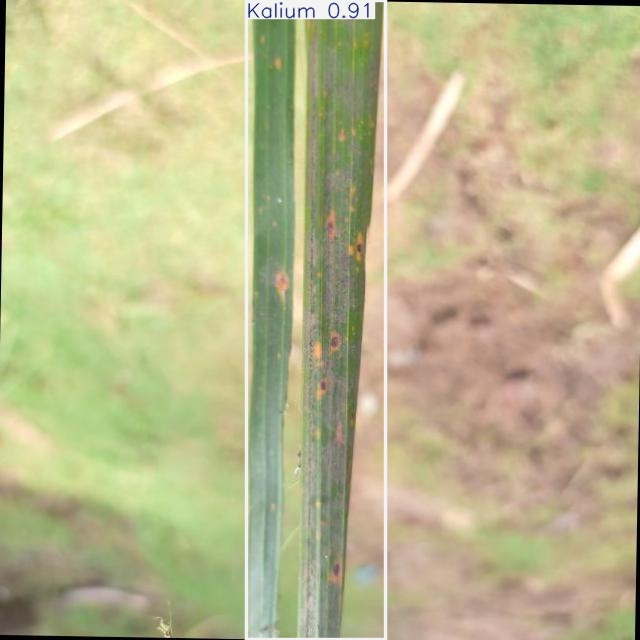Kalium: (247, 1, 385, 640)
